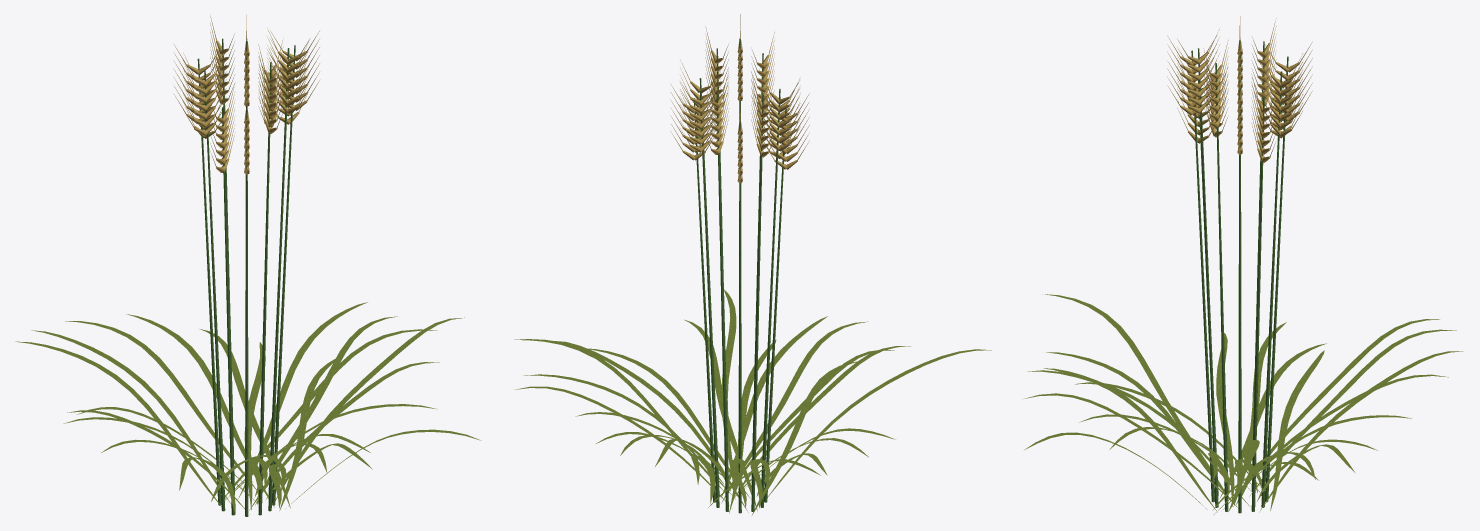
File: PZ_Crop_Wheat_Mature.glb
3 renders of one model, left to right at view 1: azimuth 30°, elevation 25°; view 2: azimuth 150°, elevation 25°; view 3: azimuth 270°, elevation 25°, orthographic. The views are drawn at different scales.
Parts seen in each view (by area): view 1: PZ_Crop_Wheat_Mature_02_Slender_Grass_Blades, PZ_Crop_Wheat_Mature_01_Culms, PZ_Crop_Wheat_Mature_03_Grain_Heads, PZ_Crop_Wheat_Mature_04_Awns; view 2: PZ_Crop_Wheat_Mature_02_Slender_Grass_Blades, PZ_Crop_Wheat_Mature_01_Culms, PZ_Crop_Wheat_Mature_03_Grain_Heads, PZ_Crop_Wheat_Mature_04_Awns; view 3: PZ_Crop_Wheat_Mature_02_Slender_Grass_Blades, PZ_Crop_Wheat_Mature_01_Culms, PZ_Crop_Wheat_Mature_03_Grain_Heads, PZ_Crop_Wheat_Mature_04_Awns.
Boxes of the visible parts, x1,y1,x2,y2 form: PZ_Crop_Wheat_Mature_02_Slender_Grass_Blades: (15, 302, 481, 514); PZ_Crop_Wheat_Mature_01_Culms: (197, 38, 295, 516); PZ_Crop_Wheat_Mature_03_Grain_Heads: (186, 40, 307, 174); PZ_Crop_Wheat_Mature_04_Awns: (173, 14, 319, 169); PZ_Crop_Wheat_Mature_02_Slender_Grass_Blades: (514, 289, 991, 515); PZ_Crop_Wheat_Mature_01_Culms: (693, 39, 786, 513); PZ_Crop_Wheat_Mature_03_Grain_Heads: (682, 40, 797, 183); PZ_Crop_Wheat_Mature_04_Awns: (670, 14, 809, 178); PZ_Crop_Wheat_Mature_02_Slender_Grass_Blades: (1022, 294, 1463, 515); PZ_Crop_Wheat_Mature_01_Culms: (1191, 40, 1288, 513); PZ_Crop_Wheat_Mature_03_Grain_Heads: (1180, 41, 1299, 162); PZ_Crop_Wheat_Mature_04_Awns: (1167, 16, 1312, 157).
Bounding box in the file's own units: 0.8536 × 0.9944 × 0.8327.
3 materials, 3 textured.
